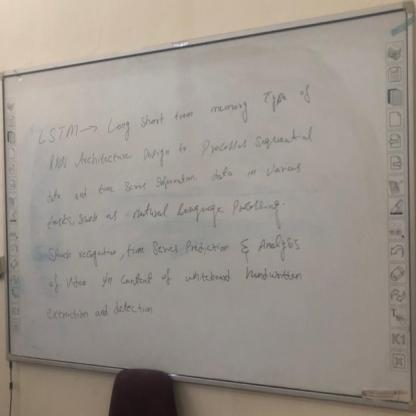Handwritten text: (31, 73, 324, 149), (39, 150, 310, 206), (42, 123, 321, 177), (38, 188, 305, 235), (42, 256, 305, 300), (39, 233, 310, 268), (42, 292, 169, 333)
Whiteboard: (1, 1, 414, 414)
